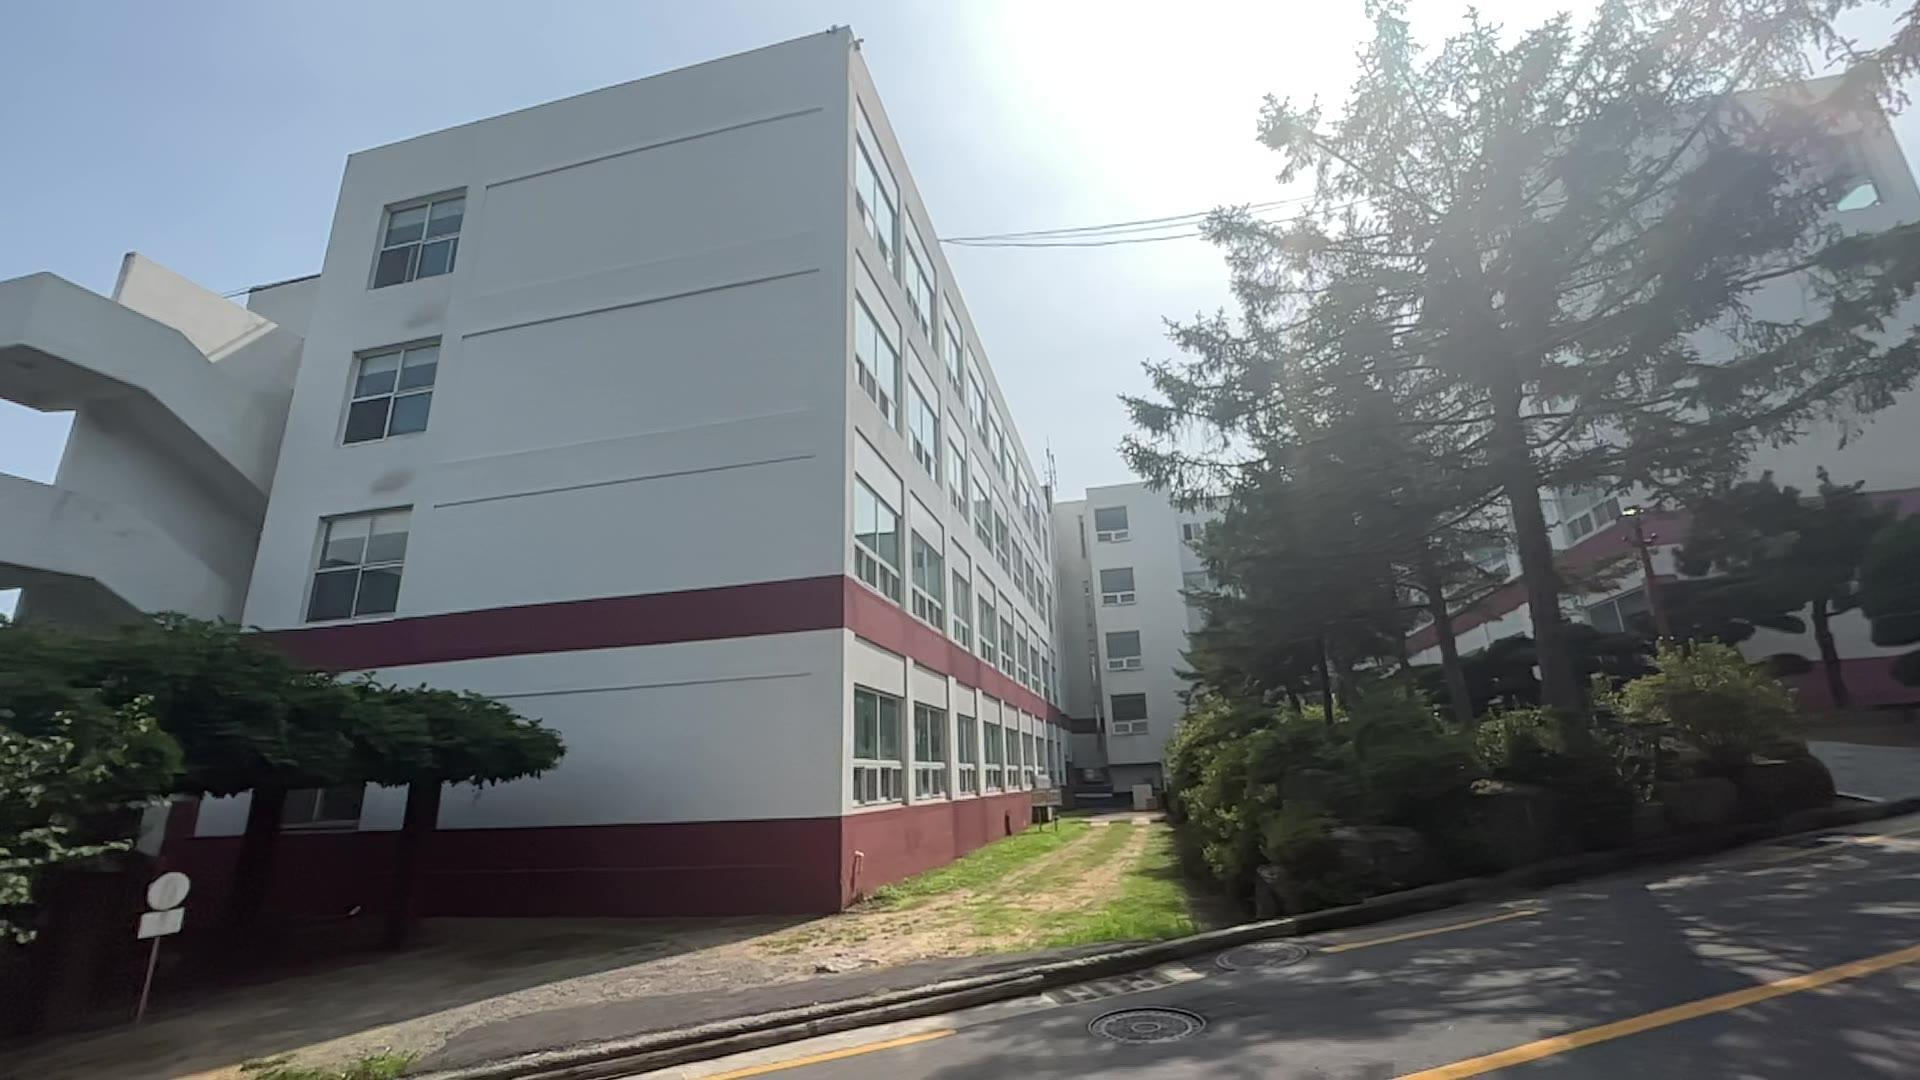building: (25, 44, 1154, 922)
